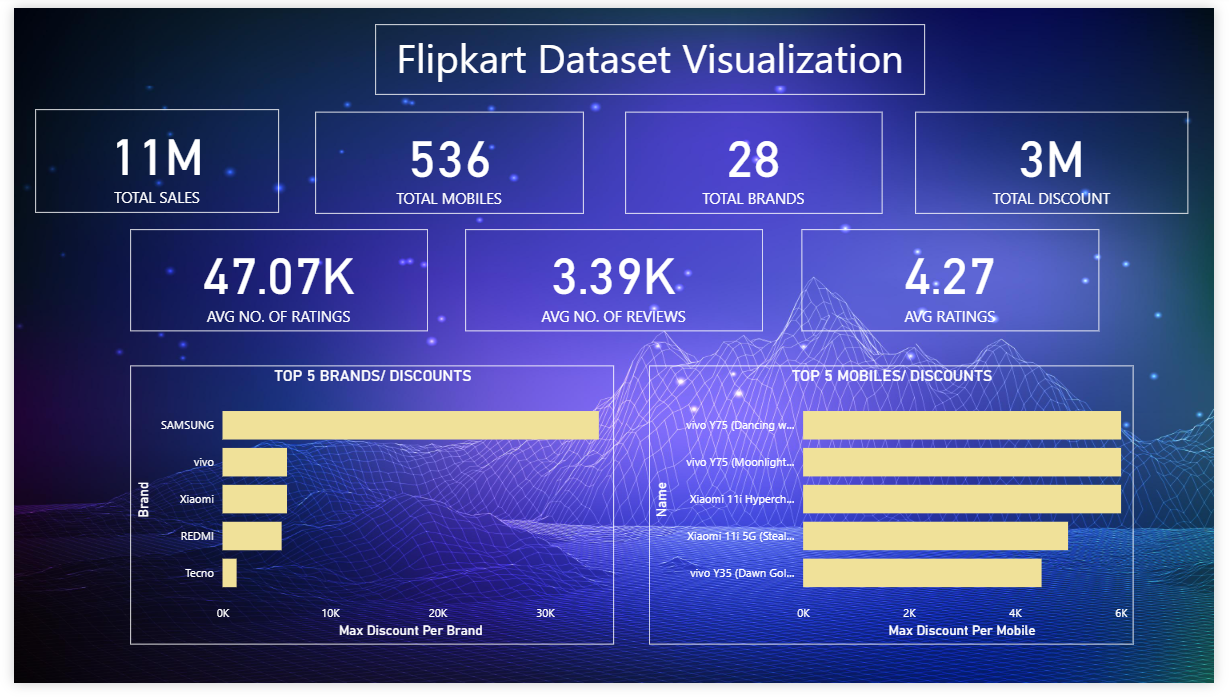

Layout of this report page (visuals, bound fields, positions):
{"tool":"powerbi","page":{"name":"Page 1","canvas":[1280,720],"ordinal":0},"visuals":[{"type":"textbox","box":[385,16.7,586.7,75],"z":0},{"type":"card","fields":{"Values":["Flipkart.Total Sales"]},"box":[22.4,108.6,260.3,110.3],"z":1000},{"type":"card","fields":{"Values":["Flipkart.Total Mobiles"]},"box":[320.7,110.3,286.2,108.6],"z":2000},{"type":"card","fields":{"Values":["Flipkart.Total Brands"]},"box":[651.7,110.3,274.1,108.6],"z":3000},{"type":"card","fields":{"Values":["Sum(Flipkart.Total Discount)"]},"box":[961.4,110,291.4,108.6],"z":4000},{"type":"card","fields":{"Values":["Flipkart.Average No. of Ratings"]},"box":[124.1,236.2,317.2,108.6],"z":5000},{"type":"card","fields":{"Values":["Flipkart.Average No. of Reviews"]},"box":[481,236.2,317.2,108.6],"z":6000},{"type":"card","fields":{"Values":["Flipkart.Average of Ratings"]},"box":[839.7,236.2,317.2,108.6],"z":7000},{"type":"barChart","title":"TOP 5 BRANDS/ DISCOUNTS","fields":{"Y":["Flipkart.Max Discount Per Brand"],"Category":["Flipkart.Brand"]},"box":[123.8,381.2,516.2,297.5],"z":8000},{"type":"barChart","title":"TOP 5 MOBILES/ DISCOUNTS","fields":{"Y":["Flipkart.Max Discount Per Mobile"],"Category":["Flipkart.Name"]},"box":[677.6,381.7,516.9,297.4],"z":9000}]}

Visuals, with their boxes in screenshot pixels (x1, y1, x2, y2), scaled from the page's 1280x720 canvas onto the 1229x697 screenshot:
textbox: bbox=(370, 16, 933, 89)
card - Flipkart.Total Sales: bbox=(22, 105, 271, 212)
card - Flipkart.Total Mobiles: bbox=(308, 107, 583, 212)
card - Flipkart.Total Brands: bbox=(626, 107, 889, 212)
card - Sum(Flipkart.Total Discount): bbox=(923, 106, 1203, 212)
card - Flipkart.Average No. of Ratings: bbox=(119, 229, 424, 334)
card - Flipkart.Average No. of Reviews: bbox=(462, 229, 766, 334)
card - Flipkart.Average of Ratings: bbox=(806, 229, 1111, 334)
"TOP 5 BRANDS/ DISCOUNTS" barChart: bbox=(119, 369, 614, 657)
"TOP 5 MOBILES/ DISCOUNTS" barChart: bbox=(651, 370, 1147, 657)
